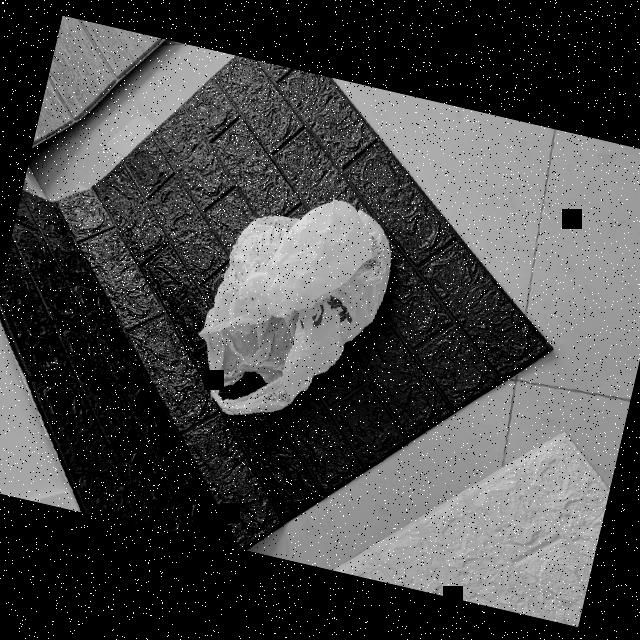plastic_bag: (164, 165, 416, 467)
